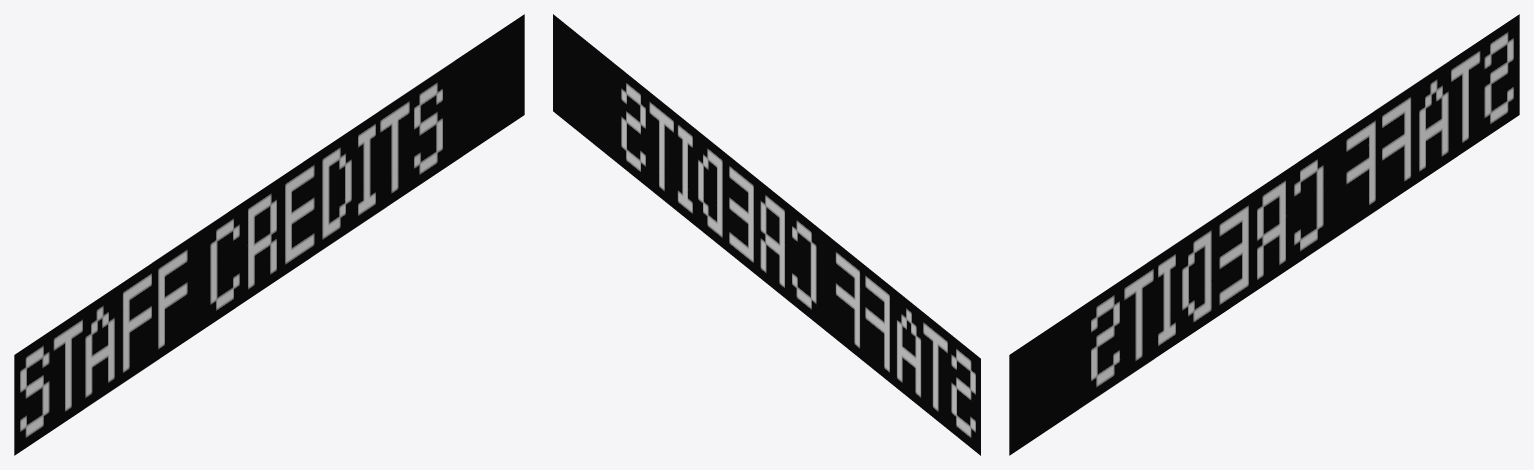
3 views of the same model, side by side, from view 1: azimuth 90°, elevation 25°; view 2: azimuth 150°, elevation 25°; view 3: azimuth 270°, elevation 25° (orthographic). The views are drawn at different scales.
Visible parts, largest first — view 1: Joint_0_Object_0; view 2: Joint_0_Object_0; view 3: Joint_0_Object_0.
Part boxes in pixels (x1,y1,x2,y2): Joint_0_Object_0: (14, 14, 524, 455); Joint_0_Object_0: (553, 14, 980, 455); Joint_0_Object_0: (1009, 14, 1519, 455).
Size of the model in its own units: 232 by 32 by 147.
1 material, 1 textured.
